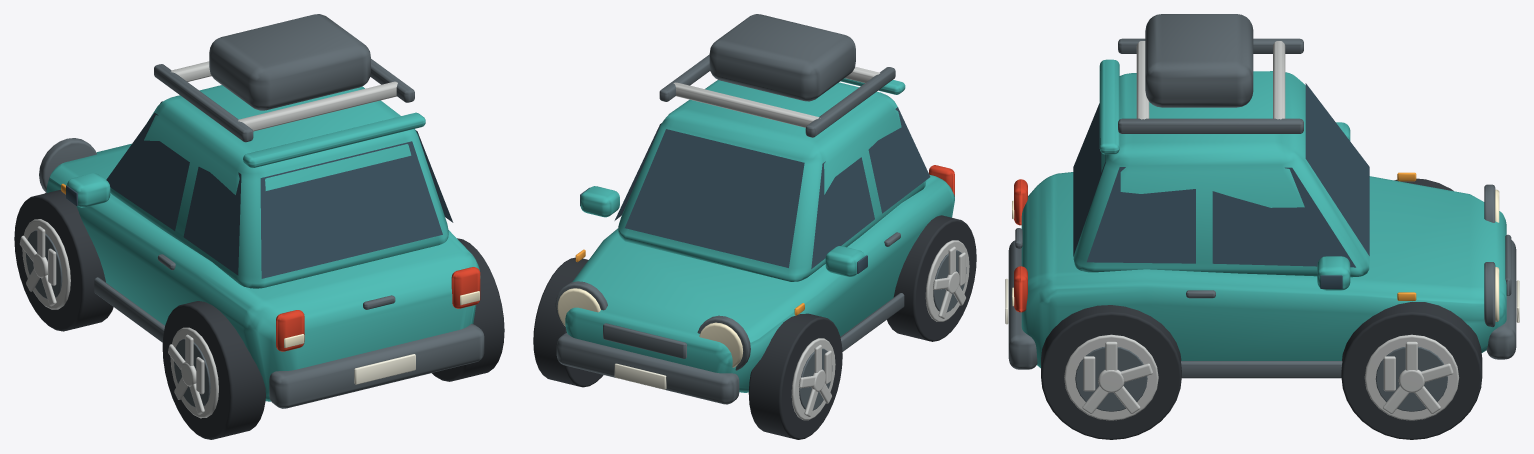
Rendered from utility_car.glb.
The picture shows the model from 3 angles, left to right: view 1: azimuth 30°, elevation 25°; view 2: azimuth 150°, elevation 25°; view 3: azimuth 270°, elevation 25°; orthographic projection. The views are drawn at different scales.
Parts seen in each view (by area): view 1: Body, Tyre.001, Tyre, Tyre.003, AlloyRim, AlloyRim.001, DarkInset.001, DarkInset; view 2: Body, Tyre, Tyre.001, Tyre.002, AlloyRim, AlloyRim.001, DarkInset, DarkInset.001; view 3: Body, Tyre.002, Tyre.003, AlloyRim.003, AlloyRim.002, DarkInset.003, DarkInset.002, Hub.002, Hub.003.
Boxes of the visible parts, x1,y1,x2,y2 form: Body: (39, 14, 484, 408); Tyre.001: (162, 301, 265, 439); Tyre: (14, 190, 113, 331); Tyre.003: (432, 238, 504, 381); AlloyRim: (22, 219, 70, 309); AlloyRim.001: (170, 327, 218, 418); DarkInset.001: (174, 339, 210, 407); DarkInset: (25, 230, 62, 298); Body: (555, 14, 954, 404); Tyre: (748, 313, 842, 439); Tyre.001: (887, 215, 976, 341); Tyre.002: (533, 257, 603, 387); AlloyRim: (791, 338, 835, 420); AlloyRim.001: (925, 240, 969, 321); DarkInset: (799, 348, 832, 410); DarkInset.001: (933, 250, 966, 312); Body: (1005, 14, 1519, 378); Tyre.002: (1341, 302, 1482, 439); Tyre.003: (1041, 305, 1181, 439); AlloyRim.003: (1064, 334, 1158, 420); AlloyRim.002: (1364, 334, 1459, 420); DarkInset.003: (1075, 347, 1147, 411); DarkInset.002: (1375, 346, 1447, 411); Hub.002: (1398, 369, 1424, 392); Hub.003: (1098, 370, 1124, 392).
Bounding box in the file's own units: 2.17 × 2.23 × 3.1.
